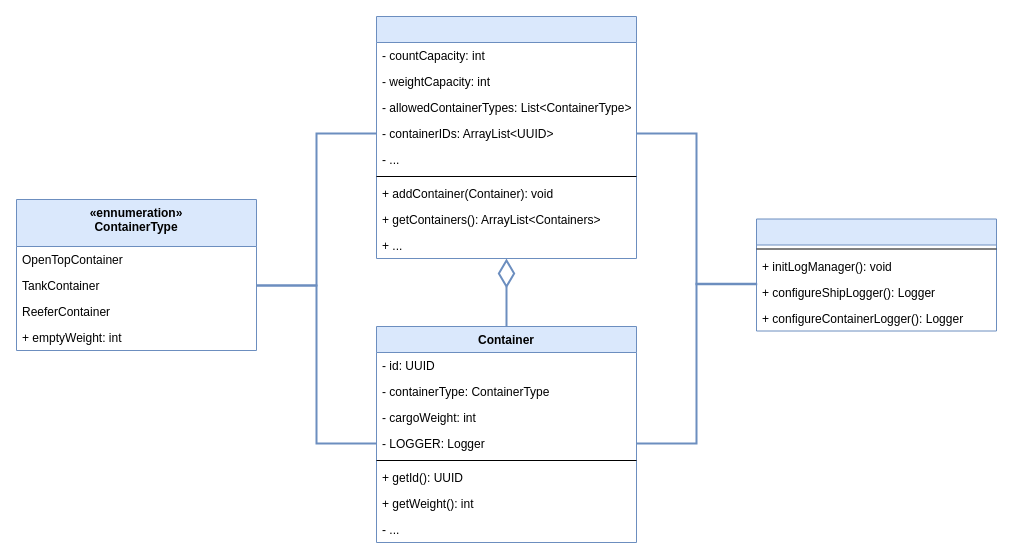
The diagram is 1013 pixels wide and 559 high, and some of its shapes have lost their labels. The shapes that lost their labels are listed below. From the top down, each one's box as (x1, y1, x2, y2) in pixels, then its label:
(376, 16, 636, 258): Ship
(756, 218, 996, 331): LoggingUtil
